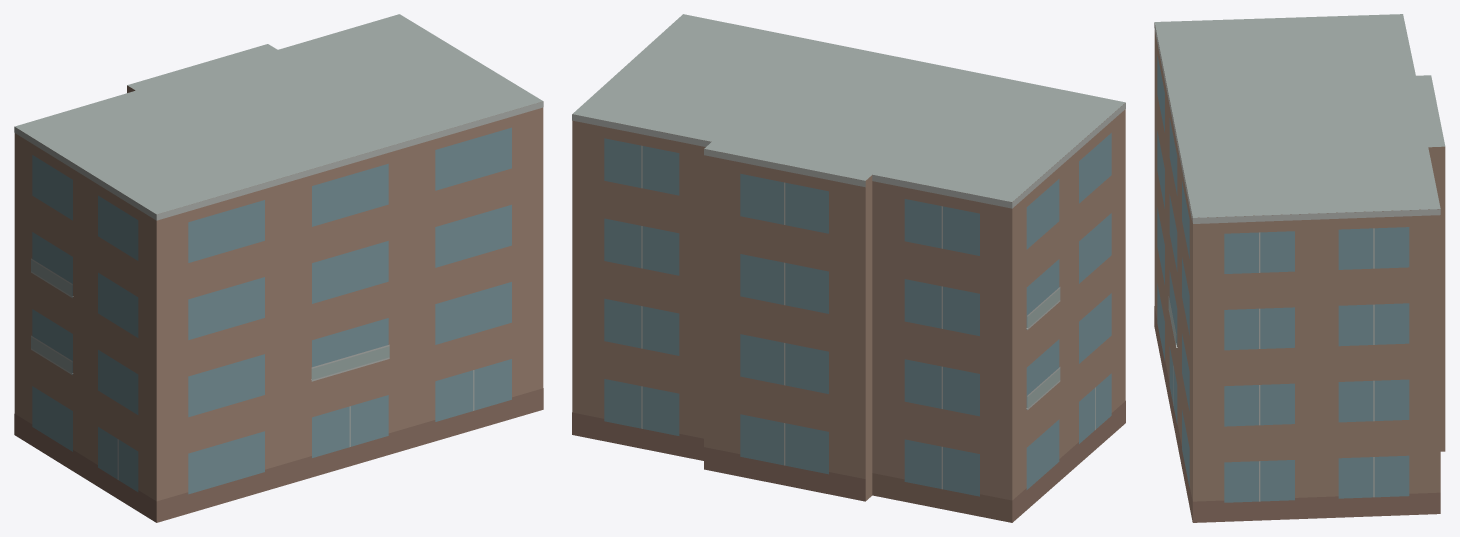
The model's file is survey-upis-32756458.glb.
3 views of the same model, side by side, from view 1: azimuth 30°, elevation 25°; view 2: azimuth 150°, elevation 25°; view 3: azimuth 270°, elevation 25° (orthographic). The views are drawn at different scales.
Visible parts, largest first — view 1: survey-upis-32756458.tmp; view 2: survey-upis-32756458.tmp; view 3: survey-upis-32756458.tmp.
Part boxes in pixels (<box>): survey-upis-32756458.tmp: <box>14,14,543,522</box>; survey-upis-32756458.tmp: <box>572,14,1125,522</box>; survey-upis-32756458.tmp: <box>1154,14,1445,522</box>.
Bounding box in the file's own units: 17.44 × 12.15 × 10.51.
